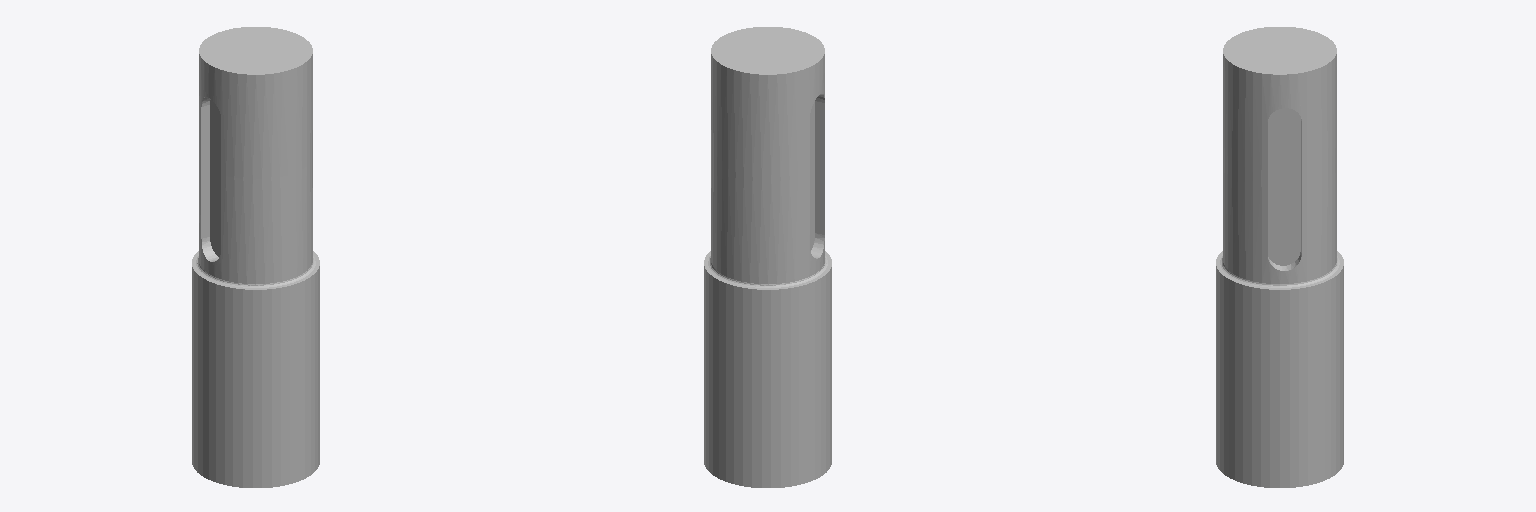
File: N4-001_pc_gfx.obj
3 renders of one model, left to right at view 1: azimuth 30°, elevation 25°; view 2: azimuth 150°, elevation 25°; view 3: azimuth 270°, elevation 25°, orthographic.
Visible parts, largest first — view 1: N4-001; view 2: N4-001; view 3: N4-001.
Boxes of the visible parts, x1=… form: N4-001: x1=192, y1=27, x2=319, y2=487; N4-001: x1=704, y1=27, x2=831, y2=487; N4-001: x1=1216, y1=27, x2=1343, y2=487.
Size of the model in its own units: 0.182 by 0.6429 by 0.1821.